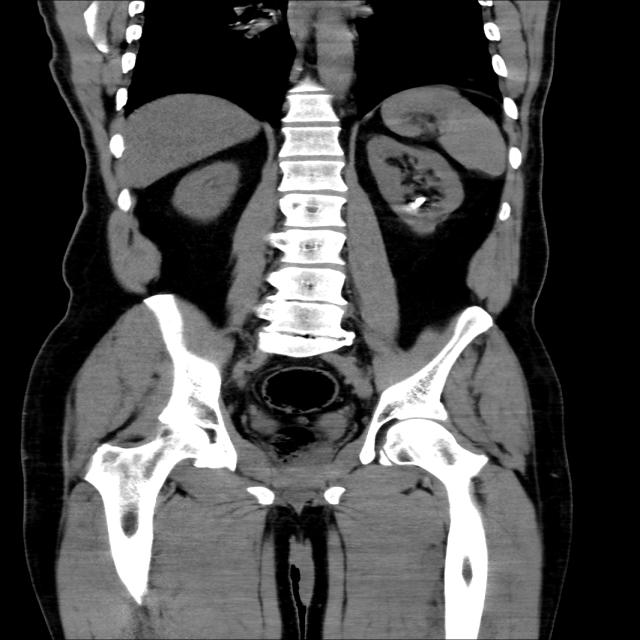kidneystone: (409, 196, 428, 210)
